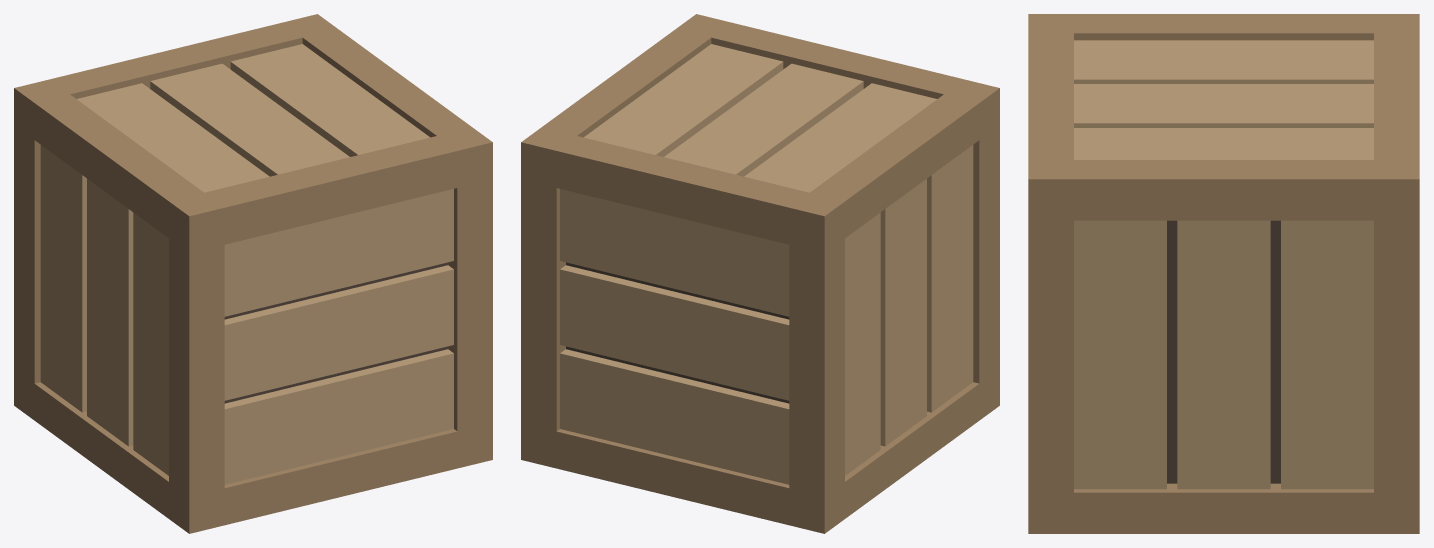
Rendered from crate_small.glb.
3 views of the same model, side by side, from view 1: azimuth 30°, elevation 25°; view 2: azimuth 150°, elevation 25°; view 3: azimuth 270°, elevation 25° (orthographic). The views are drawn at different scales.
Parts seen in each view (by area): view 1: crate_small; view 2: crate_small; view 3: crate_small.
Part boxes in pixels (x1,y1,x2,y2): crate_small: [14, 14, 492, 533]; crate_small: [521, 14, 999, 533]; crate_small: [1028, 14, 1419, 533].
Bounding box in the file's own units: 0.3 × 0.3 × 0.3.
